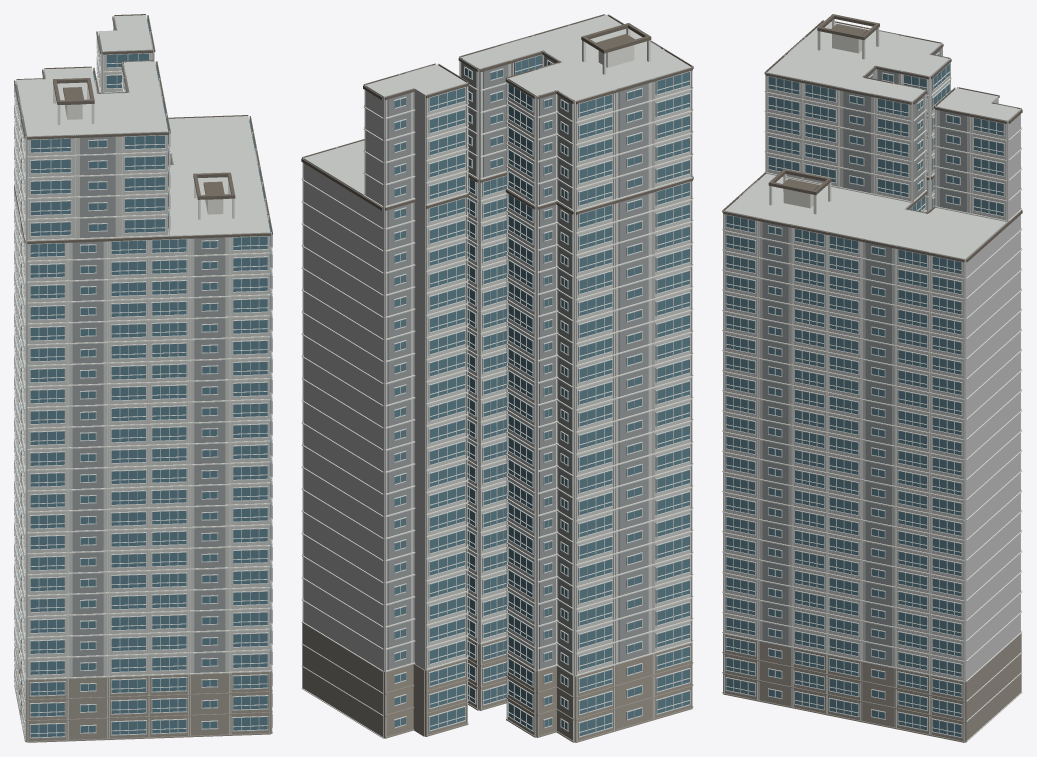
File: bespoke-banpo-xi-105.glb
3 renders of one model, left to right at view 1: azimuth 30°, elevation 25°; view 2: azimuth 150°, elevation 25°; view 3: azimuth 270°, elevation 25°, orthographic. The views are drawn at different scales.
Visible parts, largest first — view 1: BX105_editable_BX105_pale_silver_limestone, BX105_editable_BX105_blue_grey_broad_glazing, BX105_editable_BX105_white_window_frames, BX105_editable_BX105_ivory_course_bands, BX105_editable_BX105_grey_service_core, BX105_editable_BX105_warm_ground_stone, BX105_editable_BX105_dark_coping; view 2: BX105_editable_BX105_pale_silver_limestone, BX105_editable_BX105_blue_grey_broad_glazing, BX105_editable_BX105_white_window_frames, BX105_editable_BX105_ivory_course_bands, BX105_editable_BX105_grey_service_core, BX105_editable_BX105_warm_ground_stone, BX105_editable_BX105_dark_coping; view 3: BX105_editable_BX105_pale_silver_limestone, BX105_editable_BX105_blue_grey_broad_glazing, BX105_editable_BX105_white_window_frames, BX105_editable_BX105_ivory_course_bands, BX105_editable_BX105_grey_service_core, BX105_editable_BX105_warm_ground_stone, BX105_editable_BX105_dark_coping.
Boxes of the visible parts, bbox=[...] form: BX105_editable_BX105_pale_silver_limestone: bbox=[16, 15, 270, 741]; BX105_editable_BX105_blue_grey_broad_glazing: bbox=[16, 18, 271, 737]; BX105_editable_BX105_white_window_frames: bbox=[14, 18, 272, 738]; BX105_editable_BX105_ivory_course_bands: bbox=[14, 15, 272, 741]; BX105_editable_BX105_grey_service_core: bbox=[19, 18, 267, 676]; BX105_editable_BX105_warm_ground_stone: bbox=[14, 643, 272, 742]; BX105_editable_BX105_dark_coping: bbox=[14, 14, 272, 244]; BX105_editable_BX105_pale_silver_limestone: bbox=[303, 15, 691, 741]; BX105_editable_BX105_blue_grey_broad_glazing: bbox=[395, 55, 689, 736]; BX105_editable_BX105_white_window_frames: bbox=[393, 54, 690, 737]; BX105_editable_BX105_ivory_course_bands: bbox=[301, 14, 693, 741]; BX105_editable_BX105_grey_service_core: bbox=[387, 37, 660, 673]; BX105_editable_BX105_warm_ground_stone: bbox=[302, 623, 693, 742]; BX105_editable_BX105_dark_coping: bbox=[301, 14, 693, 214]; BX105_editable_BX105_pale_silver_limestone: bbox=[724, 21, 1020, 741]; BX105_editable_BX105_blue_grey_broad_glazing: bbox=[726, 53, 1003, 736]; BX105_editable_BX105_white_window_frames: bbox=[725, 52, 1004, 738]; BX105_editable_BX105_ivory_course_bands: bbox=[722, 19, 1022, 742]; BX105_editable_BX105_grey_service_core: bbox=[742, 28, 1017, 666]; BX105_editable_BX105_warm_ground_stone: bbox=[722, 633, 1021, 742]; BX105_editable_BX105_dark_coping: bbox=[722, 14, 1022, 262].
Size of the model in its own units: 40.25 by 81.3 by 36.52.
